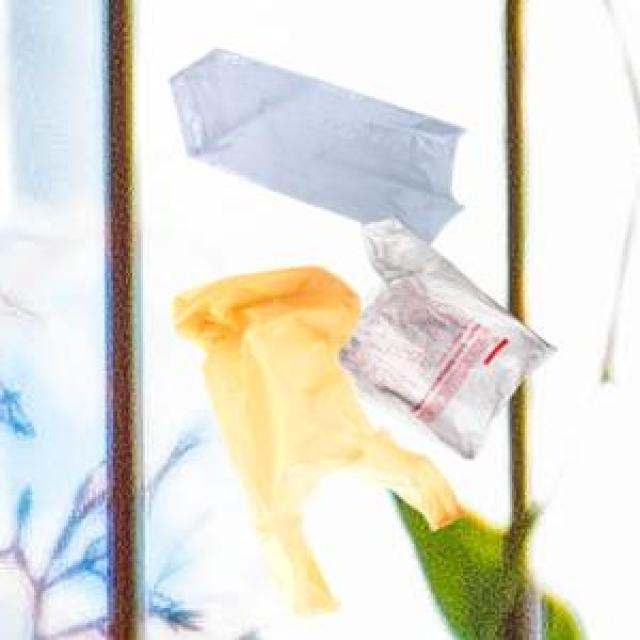plastic: (153, 38, 572, 613)
